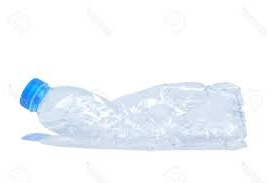plastic water bottle: (13, 71, 253, 156)
